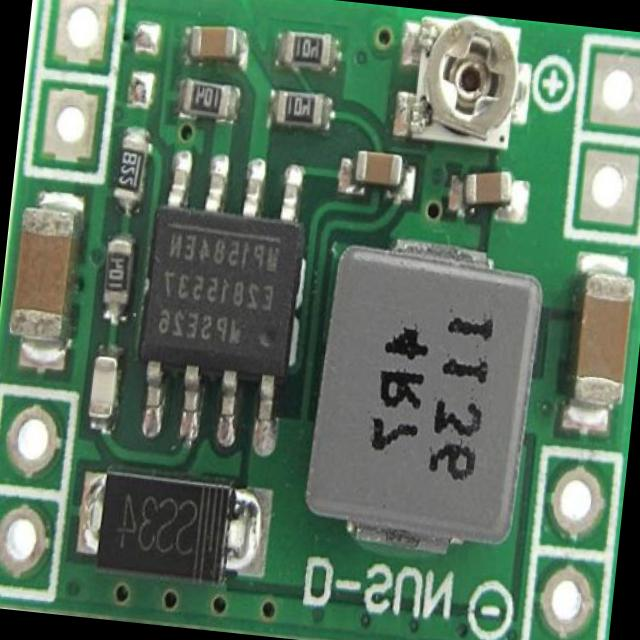IC: (133, 194, 300, 400)
capacitor: (2, 198, 86, 347), (564, 264, 634, 412), (458, 158, 516, 210), (180, 23, 240, 63), (88, 356, 116, 427), (348, 152, 404, 185)
diode: (82, 474, 244, 580)
potentiometer: (402, 12, 530, 149)
resistor: (266, 87, 325, 135), (114, 136, 147, 204), (104, 240, 136, 310), (286, 32, 332, 72), (182, 80, 230, 114)
